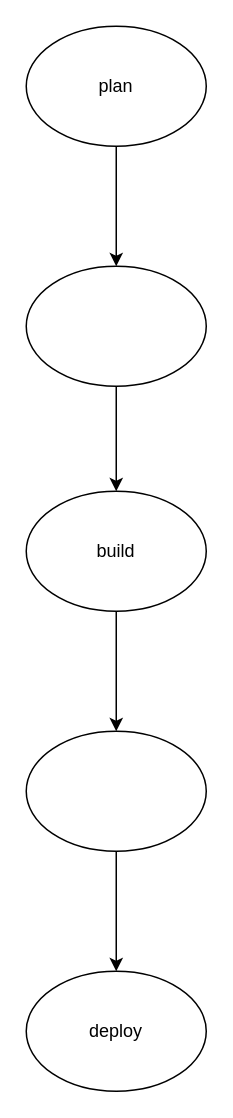
Image size: 233x1118. Some labels were removed from this diagram. Each missing label, with the centre of its shape:
"develop" belongs at (115,325).
"test" belongs at (115,790).
